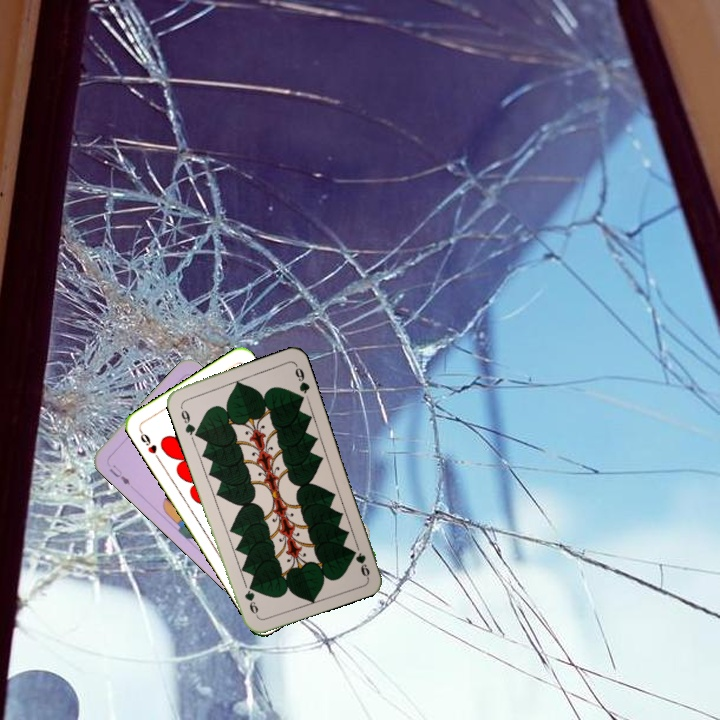EU: (105, 460, 133, 488)
G9: (176, 401, 200, 439), (351, 549, 372, 580)
H9: (135, 426, 162, 462)
